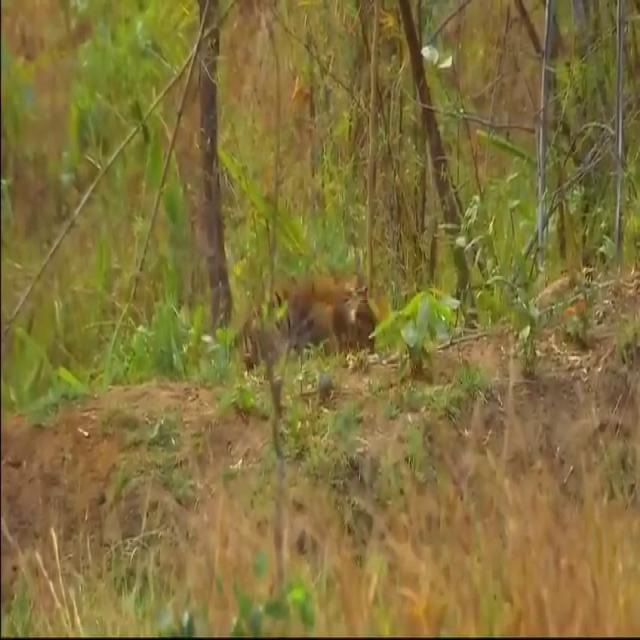tiger: (233, 272, 364, 345)
